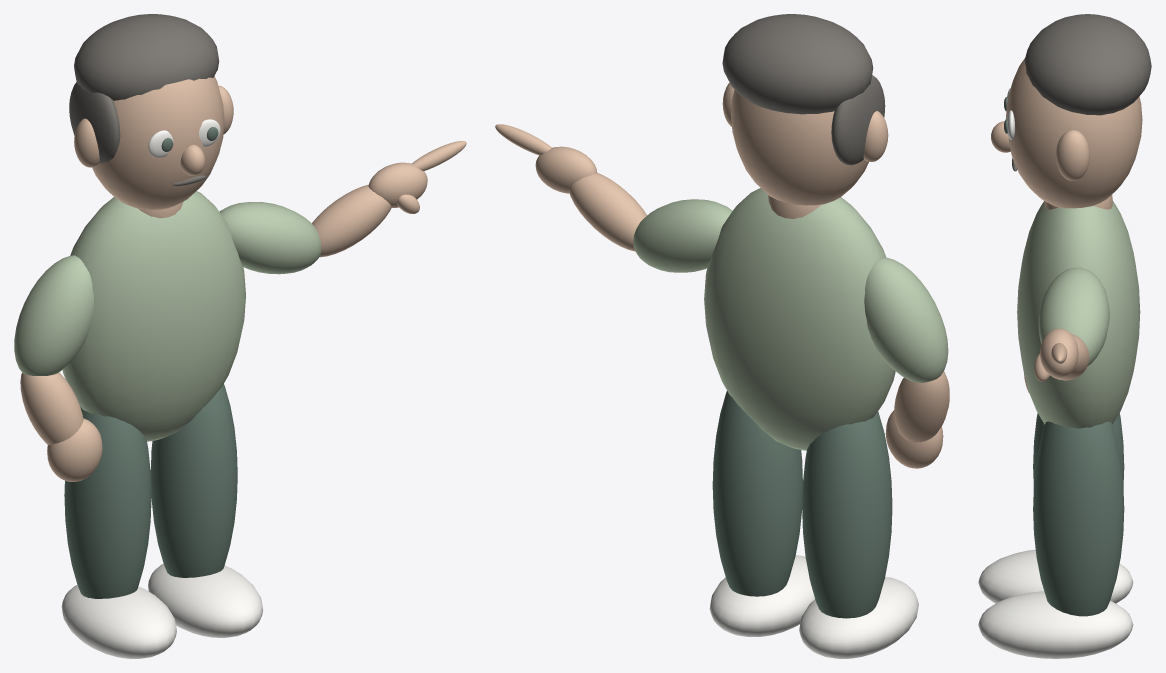
Rendered from about-avatar.glb.
The picture shows the model from 3 angles, left to right: view 1: azimuth 30°, elevation 25°; view 2: azimuth 150°, elevation 25°; view 3: azimuth 270°, elevation 25°; orthographic projection. The views are drawn at different scales.
Visible parts, largest first — view 1: Sweater, Right trouser, Left trouser, Head, Hair cap, Relaxed sleeve, Left sneaker, Right sneaker, Pointing sleeve, Pointing forearm, Relaxed forearm, Side hair (+4 smaller); view 2: Sweater, Left trouser, Right trouser, Hair cap, Head, Relaxed sleeve, Left sneaker, Pointing sleeve, Right sneaker, Pointing forearm, Relaxed forearm, Side hair (+4 smaller); view 3: Sweater, Right trouser, Head, Hair cap, Right sneaker, Pointing sleeve, Left sneaker, Ear, Pointing palm, Left trouser, Pointing forearm, Nose (+1 smaller).
Boxes of the visible parts, box(x1,y1,x2,y2) form: Sweater: box(62, 191, 245, 441); Right trouser: box(150, 384, 237, 577); Left trouser: box(64, 406, 151, 598); Head: box(92, 76, 224, 209); Hair cap: box(74, 14, 219, 100); Relaxed sleeve: box(14, 255, 93, 375); Left sneaker: box(61, 585, 176, 658); Right sneaker: box(148, 564, 263, 637); Pointing sleeve: box(219, 202, 321, 274); Pointing forearm: box(312, 184, 391, 257); Relaxed forearm: box(20, 372, 83, 444); Side hair: box(69, 82, 120, 163); Sweater: box(704, 188, 895, 450); Left trouser: box(802, 411, 892, 618); Right trouser: box(712, 391, 802, 596); Hair cap: box(722, 14, 873, 114); Head: box(731, 89, 868, 205); Relaxed sleeve: box(864, 257, 948, 382); Left sneaker: box(799, 577, 918, 658); Pointing sleeve: box(633, 199, 732, 272); Right sneaker: box(709, 555, 814, 637); Pointing forearm: box(569, 173, 646, 251); Relaxed forearm: box(894, 371, 949, 442); Side hair: box(831, 75, 885, 165); Sweater: box(1017, 200, 1140, 428); Right trouser: box(1033, 421, 1124, 616); Head: box(1005, 58, 1142, 208); Hair cap: box(1024, 14, 1151, 115); Right sneaker: box(978, 591, 1133, 658); Pointing sleeve: box(1038, 267, 1109, 366); Left sneaker: box(978, 549, 1133, 603); Ear: box(1056, 130, 1089, 180); Pointing palm: box(1040, 328, 1078, 378); Left trouser: box(1033, 413, 1124, 487); Pointing forearm: box(1052, 333, 1089, 380); Nose: box(991, 121, 1010, 152).
Bounding box in the file's own units: 2.25 × 2.93 × 0.76.
